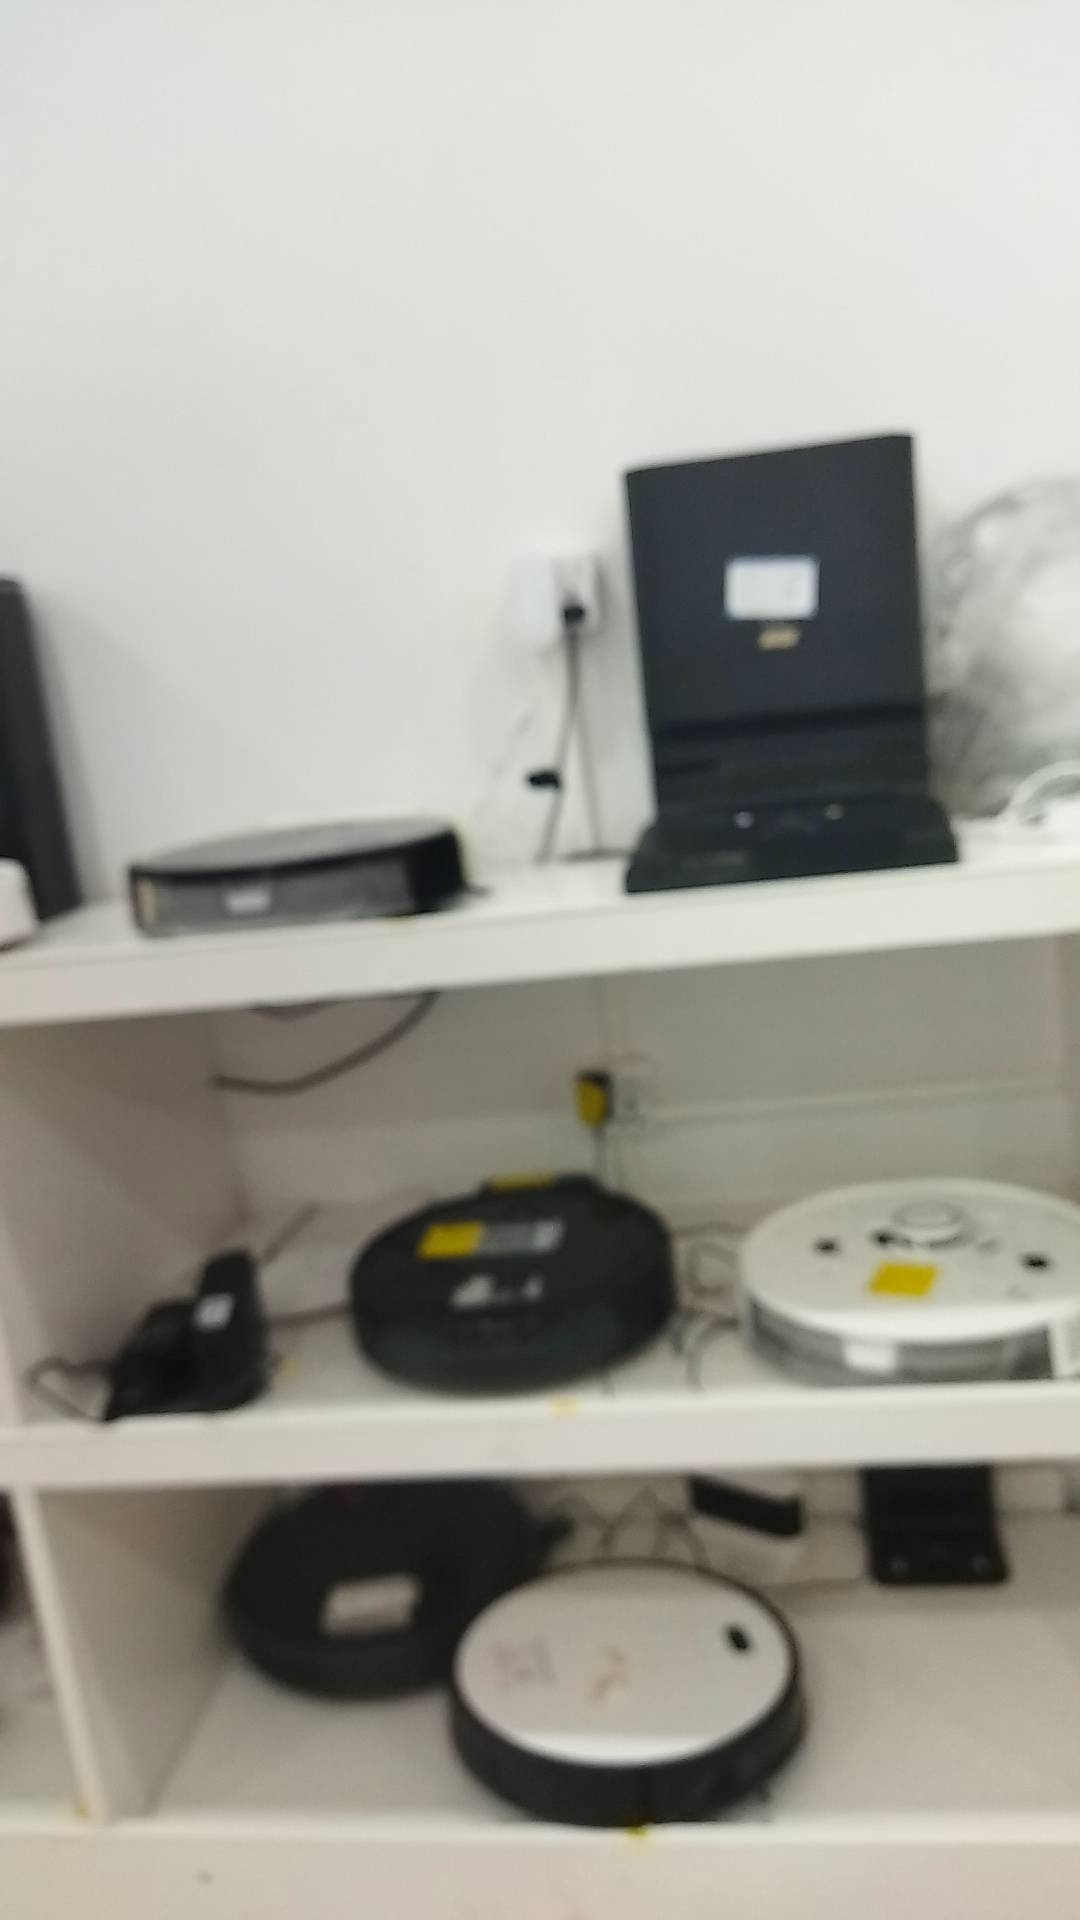dust collecting barrel: (625, 436, 964, 897)
recharge seat: (107, 1247, 266, 1424), (852, 1465, 1015, 1590), (655, 1480, 798, 1604)
